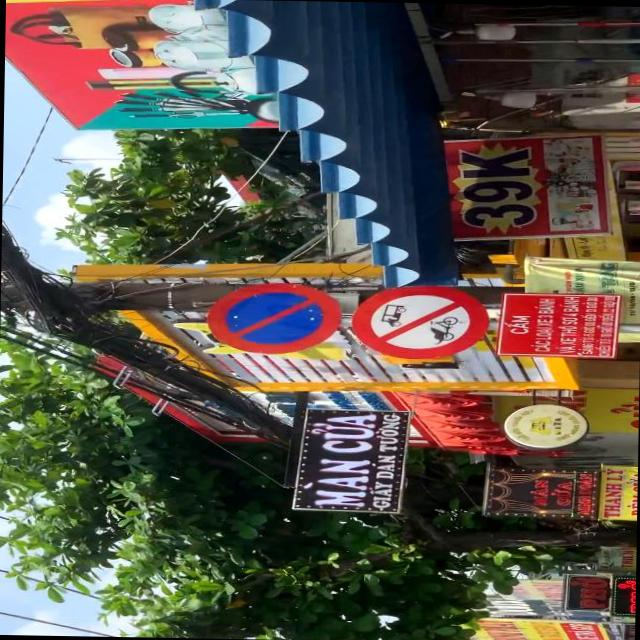P-131a: (203, 282, 342, 354)
